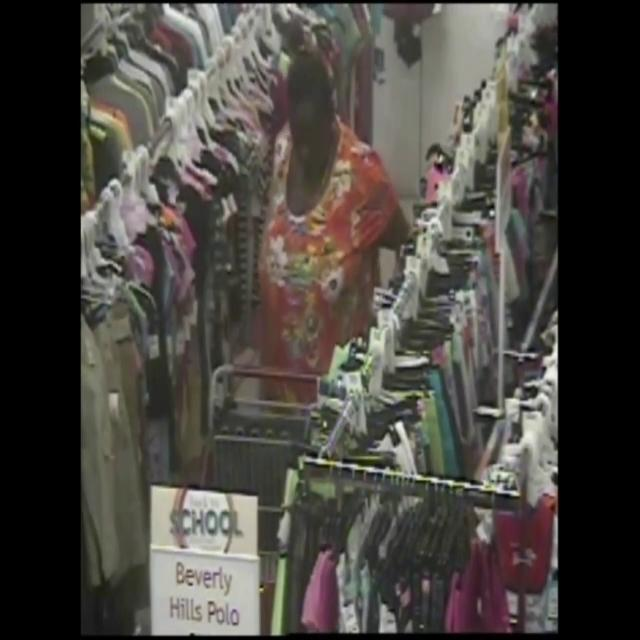normal: (248, 11, 407, 382)
